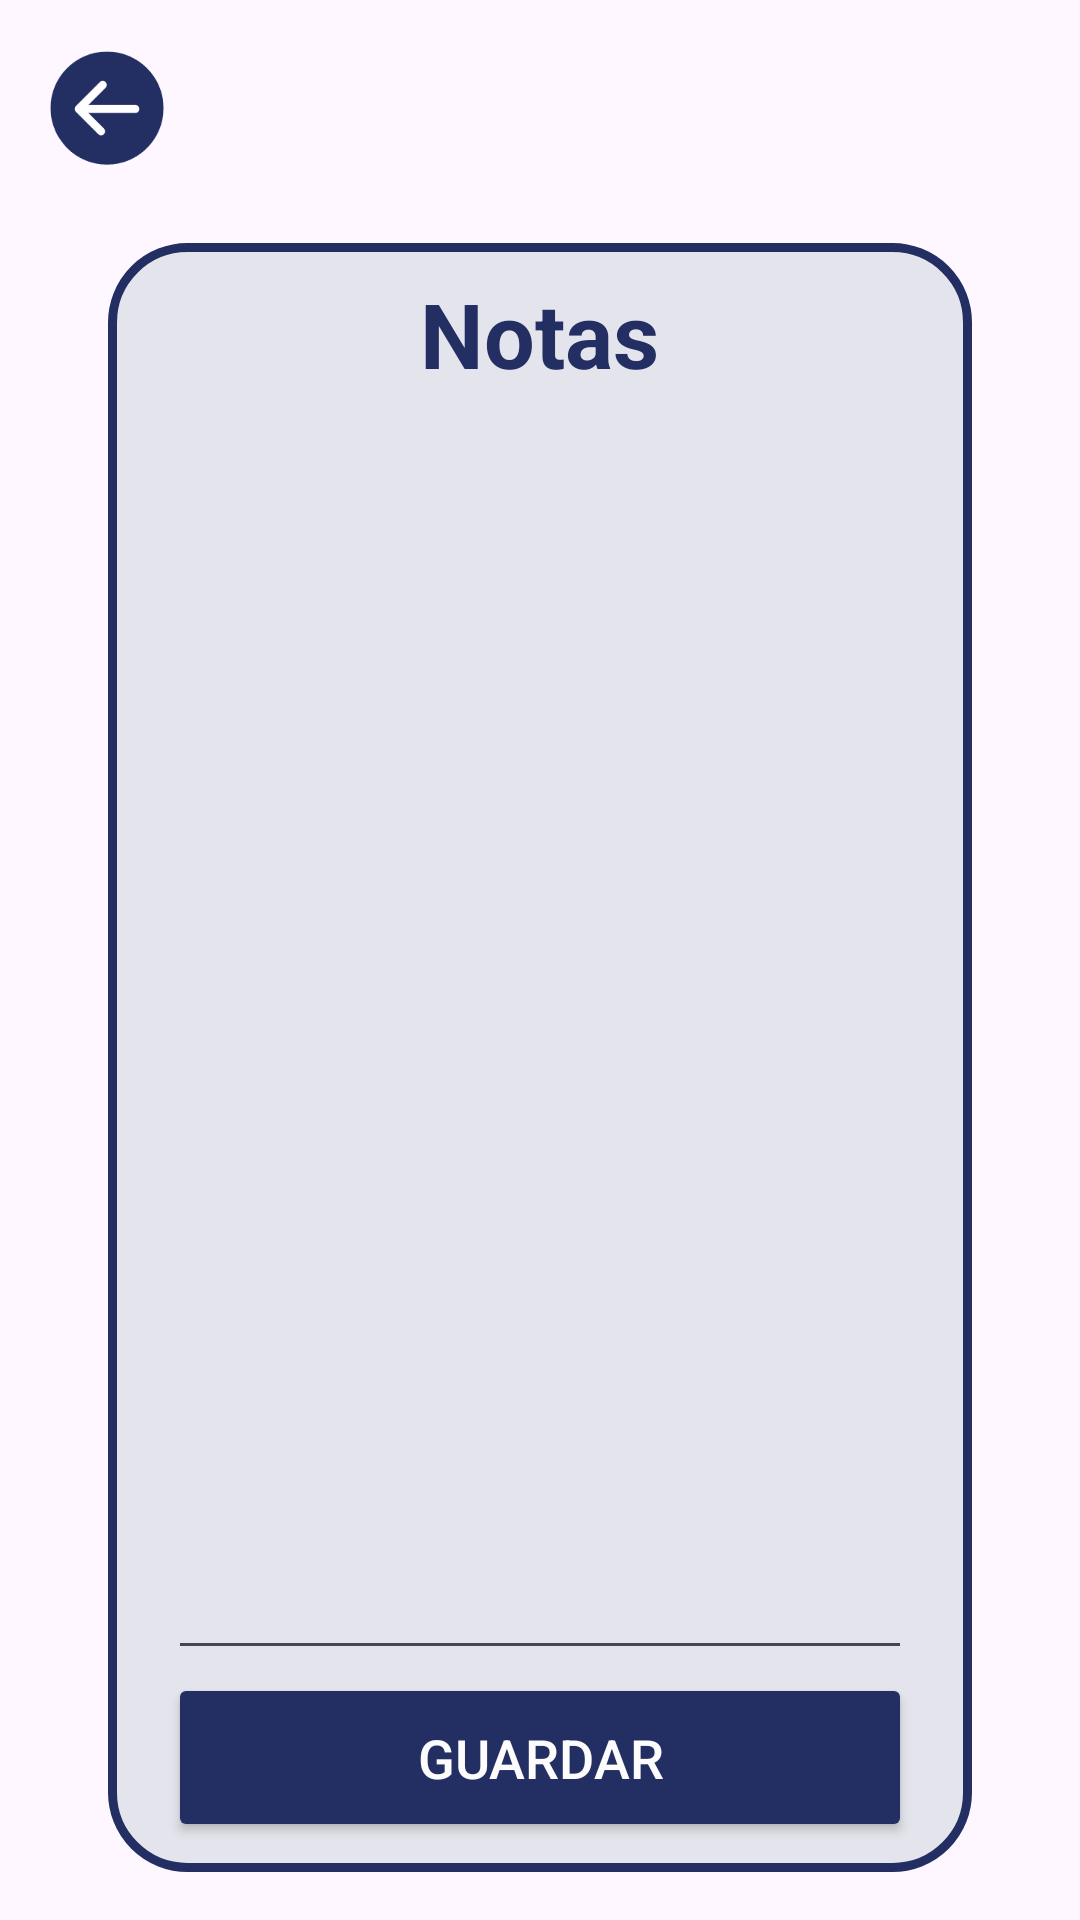

Icon click points for this 1080×1920 phone screenshot, format (x=x, y=y):
goback: (x=107, y=108)
